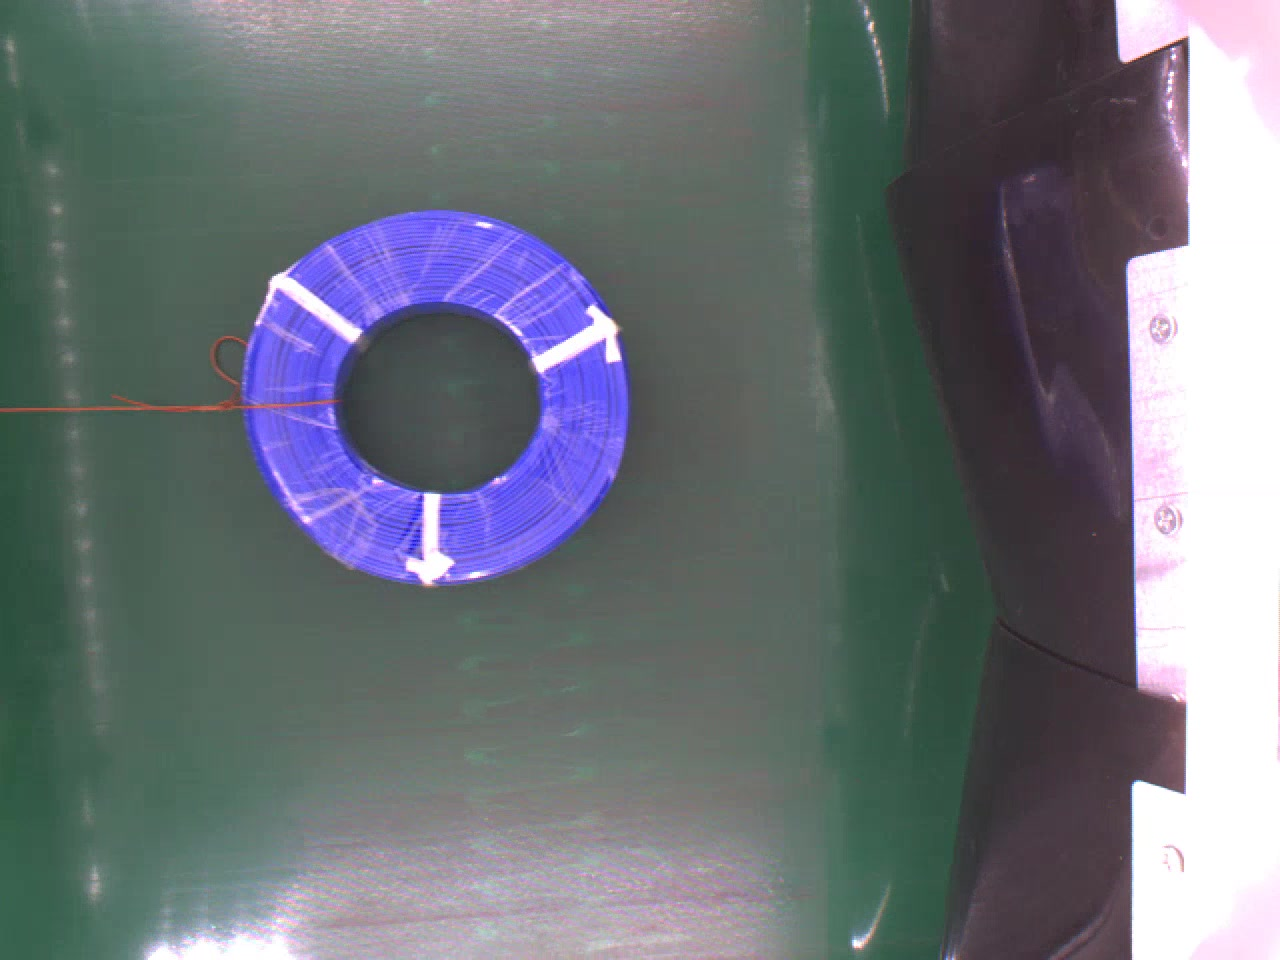blue: (244, 209, 634, 588)
